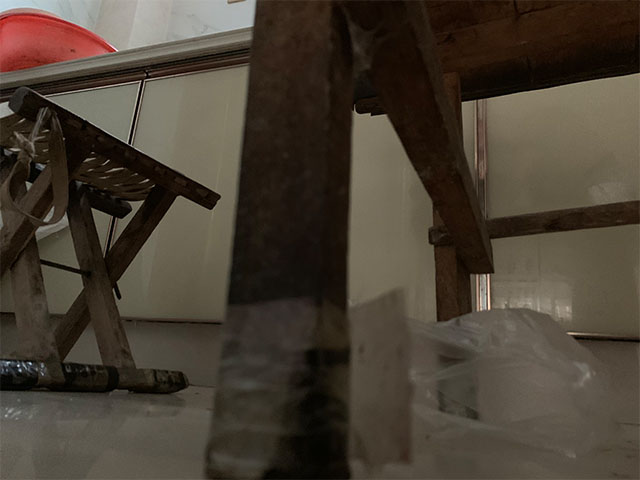stool: (1, 83, 222, 395)
